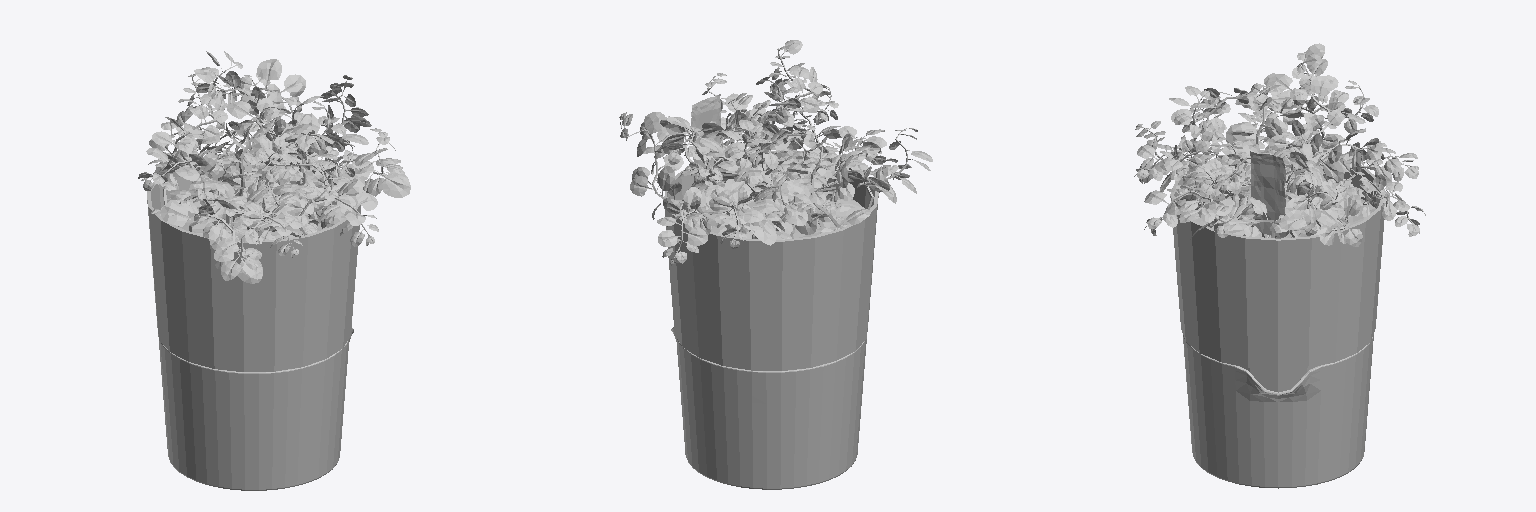
3 renders of one model, left to right at view 1: azimuth 30°, elevation 25°; view 2: azimuth 150°, elevation 25°; view 3: azimuth 270°, elevation 25°, orthographic.
Parts seen in each view (by area): view 1: file.001; view 2: file.001; view 3: file.001.
Boxes of the visible parts, box(x1,y1,x2,y2) form: file.001: box(138, 51, 410, 490); file.001: box(619, 40, 932, 489); file.001: box(1134, 43, 1425, 488).
Size of the model in its own units: 24.34 by 37.6 by 25.22.